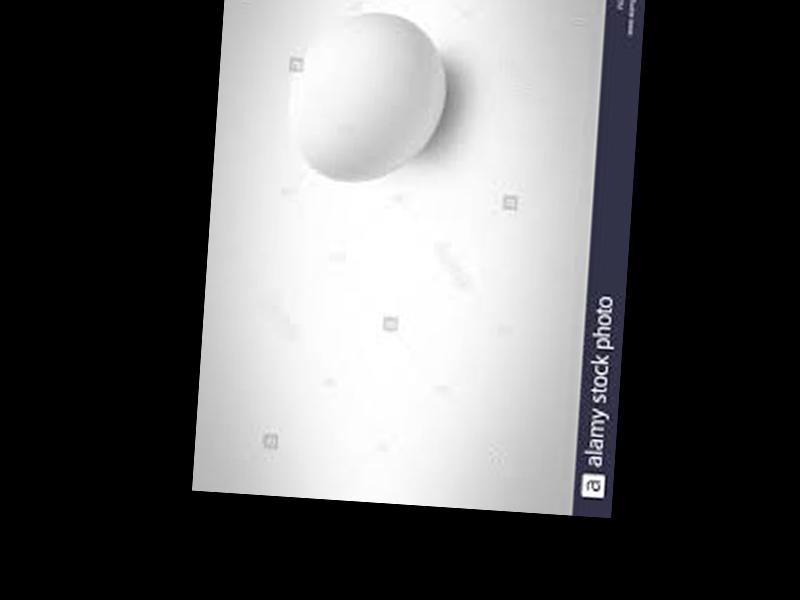Eggs: (286, 5, 451, 185)
